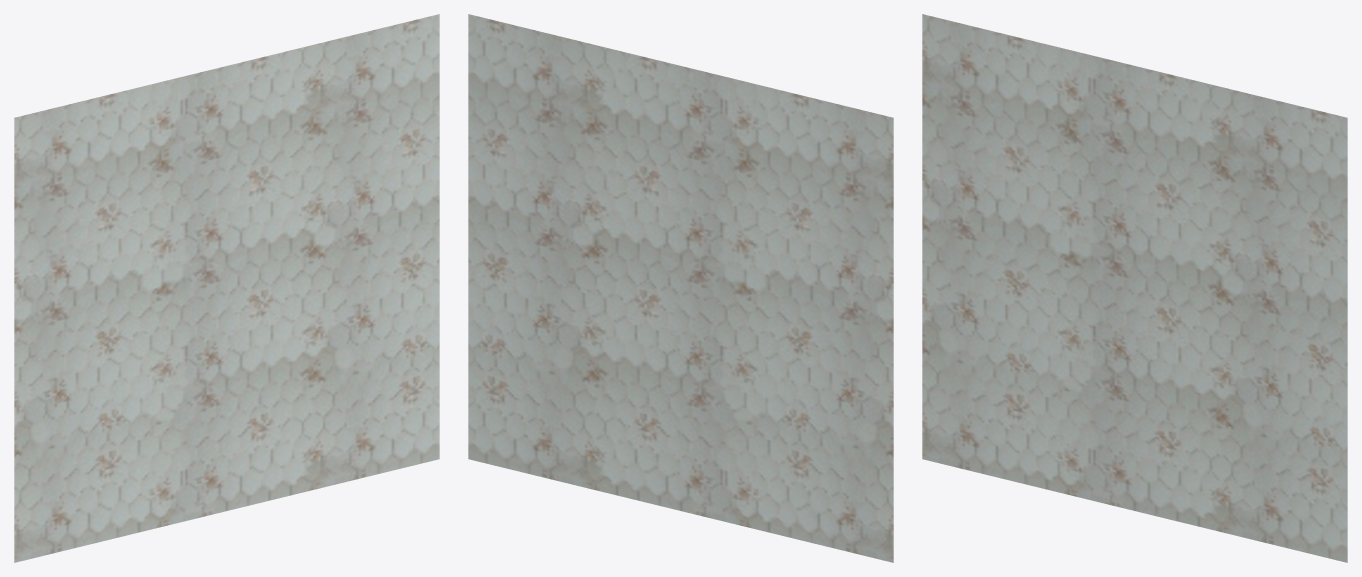
Rendered from wall._3x3_kabinet.glb.
The picture shows the model from 3 angles, left to right: view 1: azimuth 30°, elevation 25°; view 2: azimuth 150°, elevation 25°; view 3: azimuth 330°, elevation 25°; orthographic projection.
Visible parts, largest first — view 1: Plane; view 2: Plane; view 3: Plane.
Part boxes in pixels (bbox=[...]): Plane: bbox=[14, 14, 439, 562]; Plane: bbox=[468, 14, 893, 562]; Plane: bbox=[922, 14, 1347, 562].
Size of the model in its own units: 3 by 3 by 8.74e-08.
Materials: 1 (1 with a texture image).
